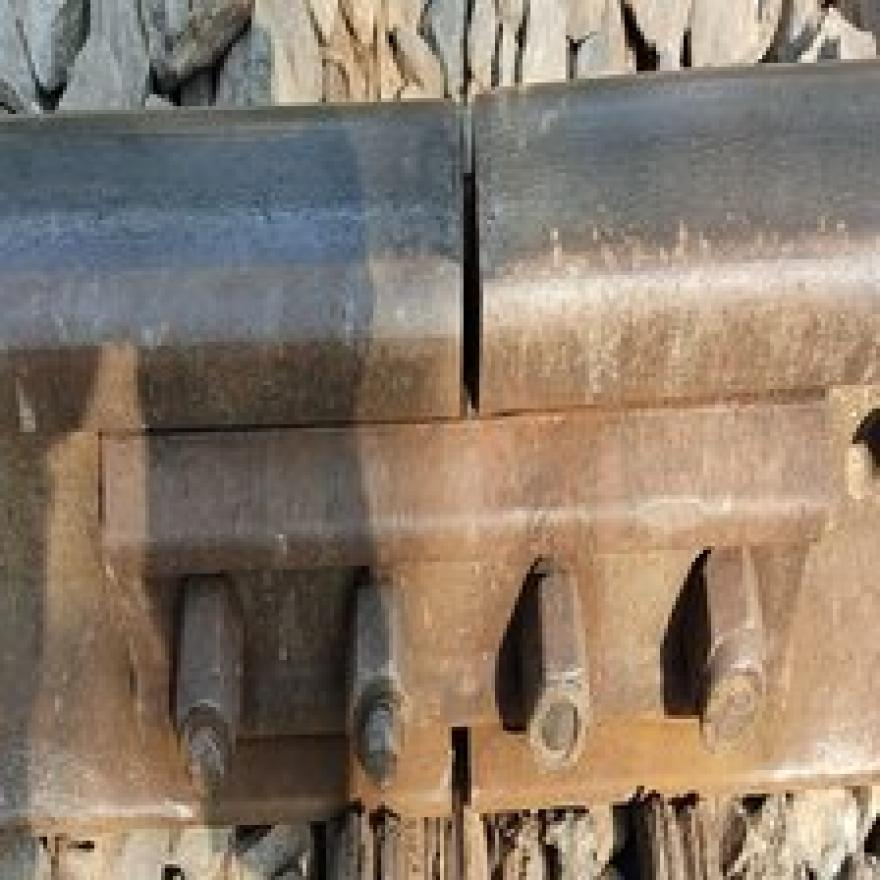railway-gap: (195, 0, 742, 513)
